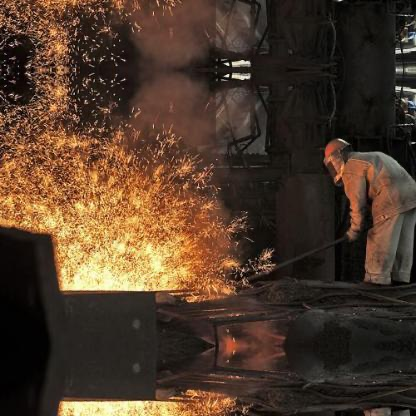Safety Helmet: (320, 131, 360, 193)
